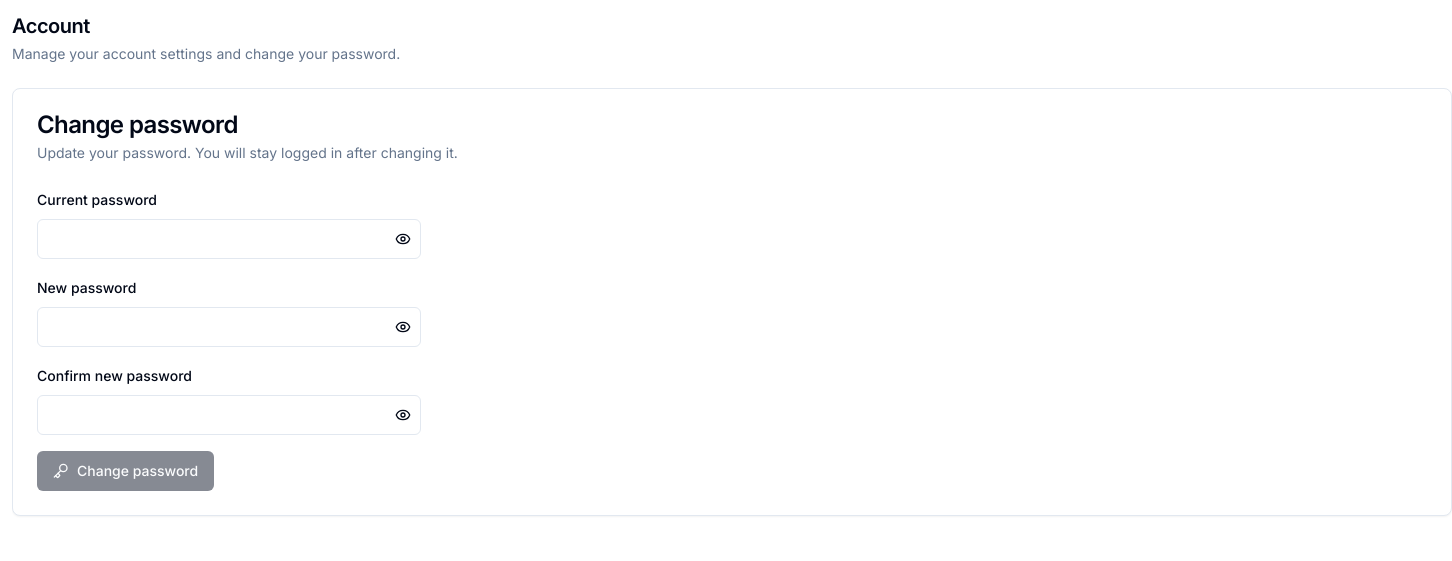
it: AccountPage › shows the field-level error returned for an incorrect current password
Type "wrong-password" into the password field labelled "Current password".
click(229, 239); type("wrong-password")  # box left=37, top=219, right=421, bottom=259
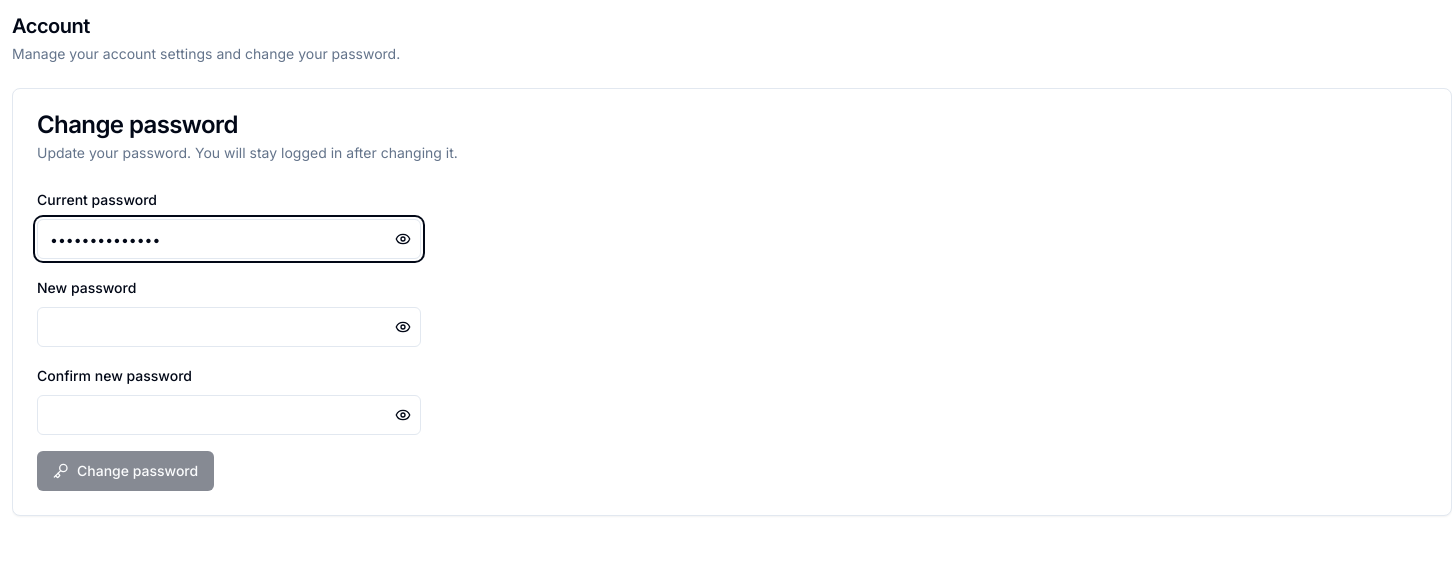
Type "12345678" into the password field labelled "New password".
click(229, 327); type("12345678")  # box left=37, top=307, right=421, bottom=347
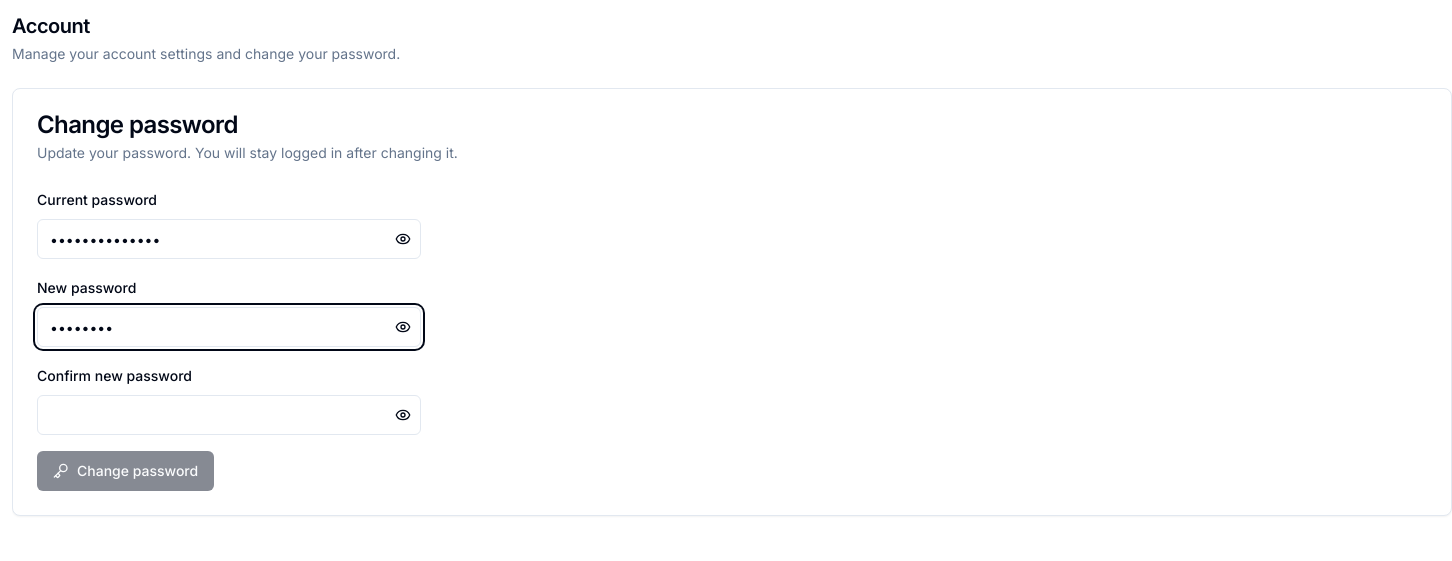
Type "12345678" into the password field labelled "Confirm new password".
click(229, 415); type("12345678")  # box left=37, top=395, right=421, bottom=435
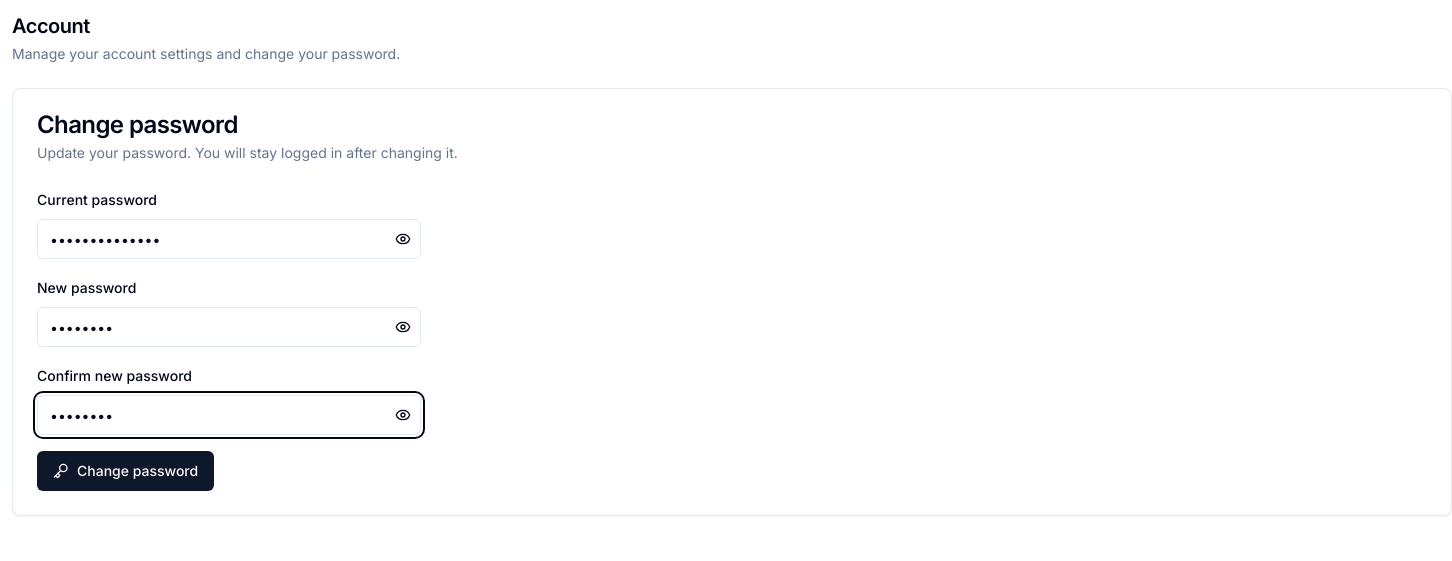
Click the button "Change password".
click(126, 471)  # box left=37, top=451, right=214, bottom=491
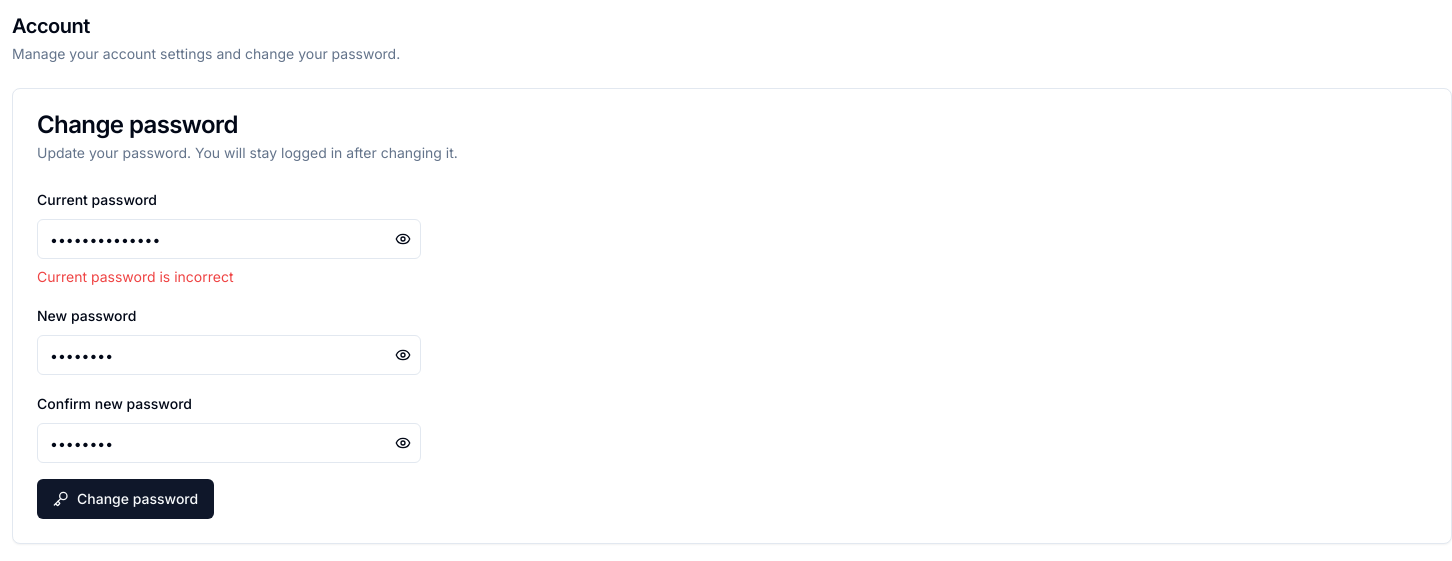
expect the text "Current password is incorrect" is shown: met, box left=37, top=268, right=234, bottom=285
